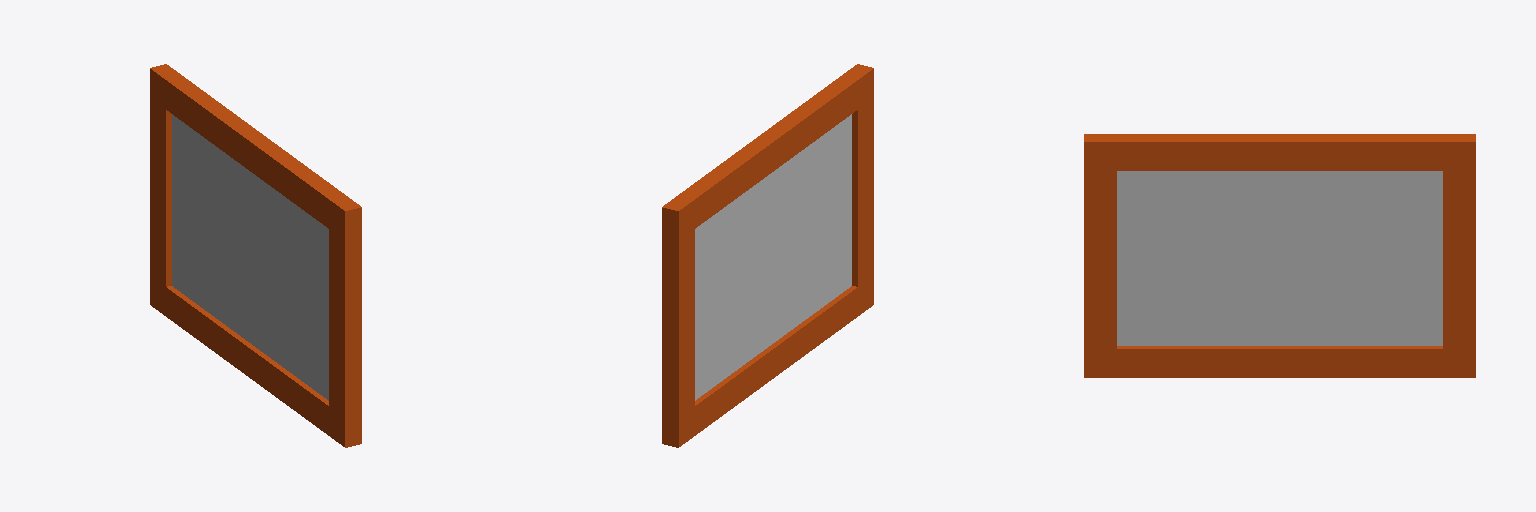
File: window.obj
3 views of the same model, side by side, from view 1: azimuth 30°, elevation 25°; view 2: azimuth 150°, elevation 25°; view 3: azimuth 270°, elevation 25° (orthographic).
Parts seen in each view (by area): view 1: Cube; view 2: Cube; view 3: Cube.
Part boxes in pixels (x1,y1,x2,y2): Cube: (150, 64, 361, 447); Cube: (662, 64, 873, 447); Cube: (1084, 134, 1475, 377).
Size of the model in its own units: 0.3 by 4 by 6.